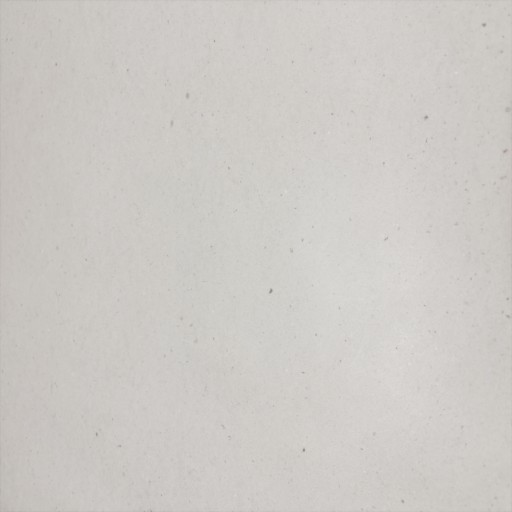lego: (242, 232, 270, 280)
